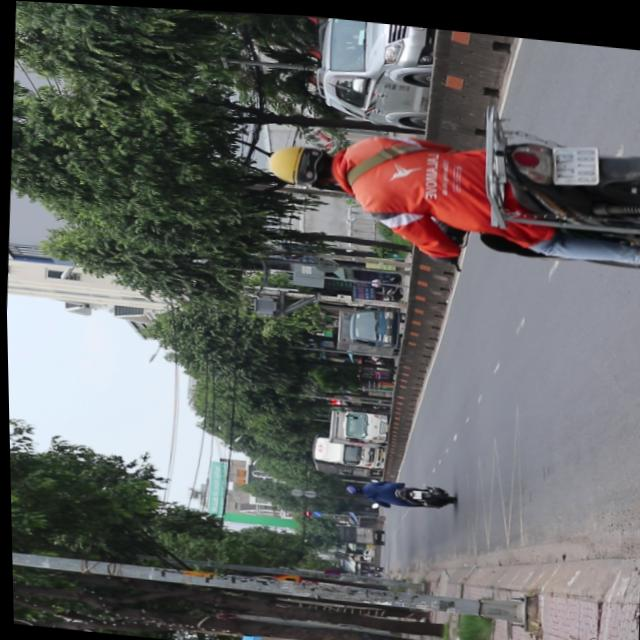helmet: (265, 136, 337, 185)
licenseplate: (256, 80, 640, 272)
nohelmet: (551, 136, 600, 180)
